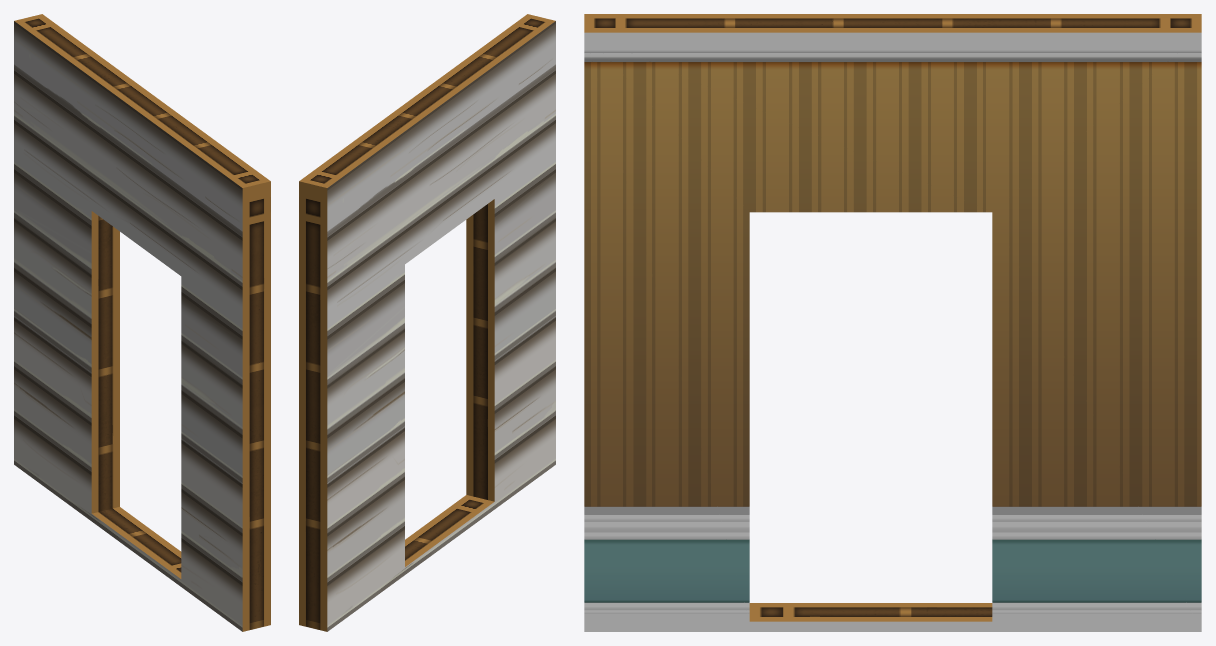
The model's file is wall01_interior_door1m.fbx.
3 renders of one model, left to right at view 1: azimuth 30°, elevation 25°; view 2: azimuth 150°, elevation 25°; view 3: azimuth 270°, elevation 25°, orthographic. The views are drawn at different scales.
Visible parts, largest first — view 1: wall01_interior_door1m; view 2: wall01_interior_door1m; view 3: wall01_interior_door1m.
Part boxes in pixels (x1,y1,x2,y2): wall01_interior_door1m: (14,14,270,631); wall01_interior_door1m: (299,14,555,631); wall01_interior_door1m: (584,14,1201,631).
Bounding box in the file's own units: 20 × 300 × 280.
